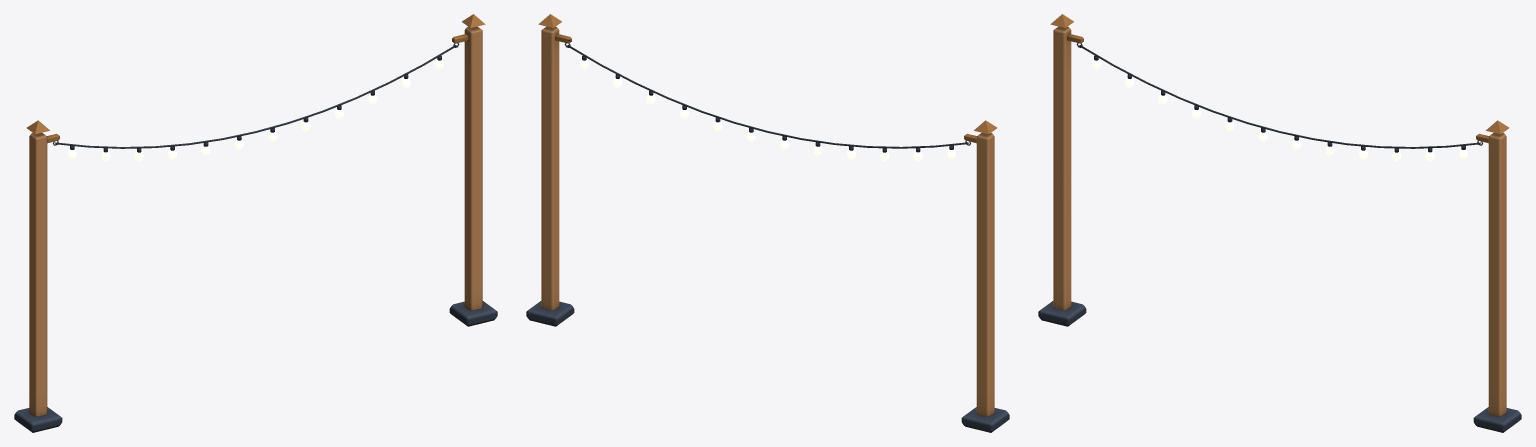
Rendered from string_lights.glb.
3 renders of one model, left to right at view 1: azimuth 30°, elevation 25°; view 2: azimuth 150°, elevation 25°; view 3: azimuth 330°, elevation 25°, orthographic.
Parts seen in each view (by area): view 1: string_lights, Strand, Bulbs; view 2: string_lights, Strand, Bulbs; view 3: string_lights, Strand, Bulbs.
Boxes of the visible parts, bbox=[...] form: string_lights: bbox=[14, 14, 497, 432]; Strand: bbox=[55, 45, 456, 152]; Bulbs: bbox=[68, 59, 443, 161]; string_lights: bbox=[526, 14, 1009, 432]; Strand: bbox=[567, 45, 968, 152]; Bulbs: bbox=[580, 59, 955, 161]; string_lights: bbox=[1038, 14, 1521, 432]; Strand: bbox=[1079, 45, 1480, 152]; Bulbs: bbox=[1092, 59, 1467, 161].
Bounding box in the file's own units: 4.3 × 2.67 × 0.3.
Materials: 6 (5 with a texture image).
